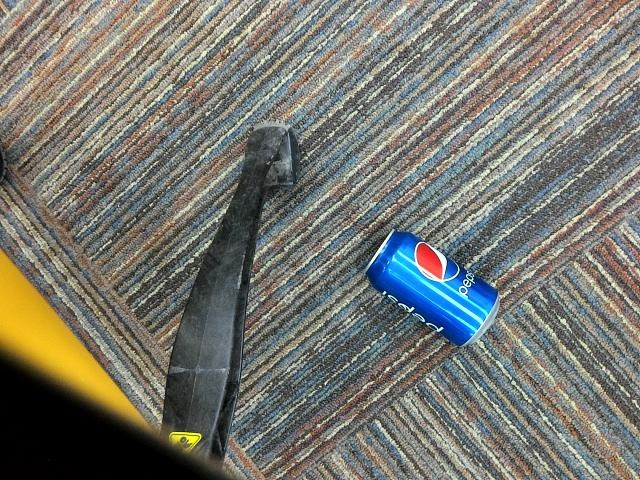can: (361, 226, 509, 350)
